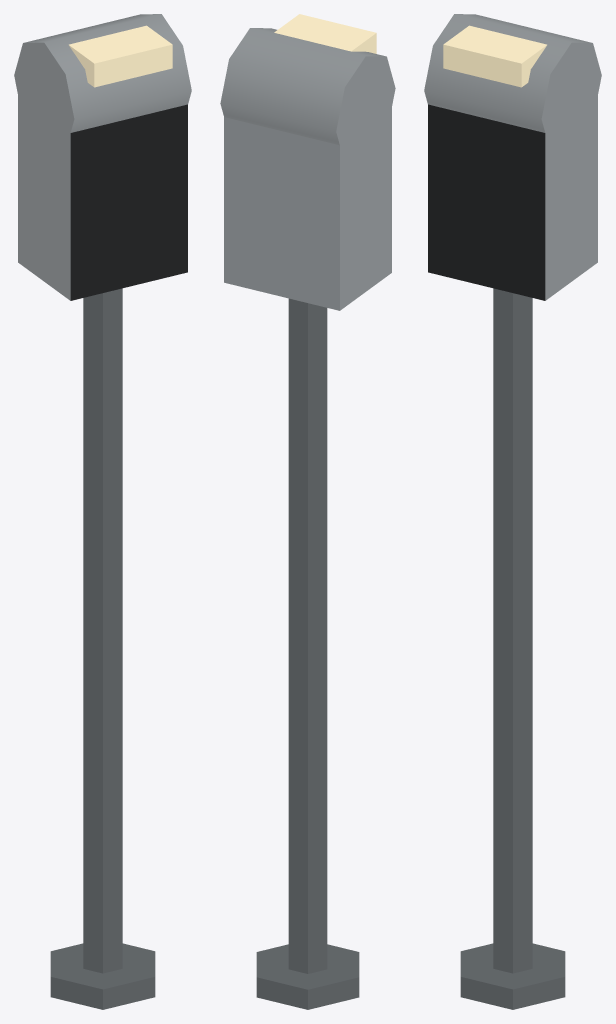
File: sf_parking_meter.glb
The picture shows the model from 3 angles, left to right: view 1: azimuth 30°, elevation 25°; view 2: azimuth 150°, elevation 25°; view 3: azimuth 330°, elevation 25°; orthographic projection.
Parts seen in each view (by area): view 1: sf_parking_meter; view 2: sf_parking_meter; view 3: sf_parking_meter.
Part boxes in pixels (box(x1,y1,x2,y2)): sf_parking_meter: box(14, 14, 191, 1009); sf_parking_meter: box(220, 14, 395, 1009); sf_parking_meter: box(424, 14, 601, 1009).
Bounding box in the file's own units: 0.18 × 1.4 × 0.161.
Materials: 1 (1 with a texture image).
